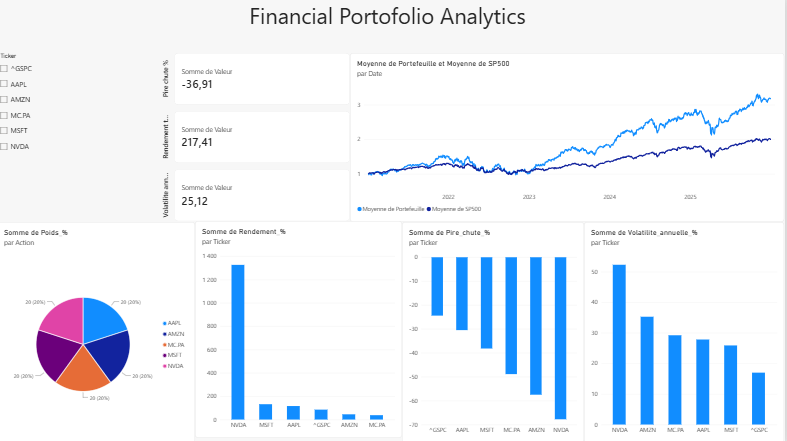

The page's visual inventory and layout, read from the dashboard file:
{"tool":"powerbi","page":{"name":"Page 1","canvas":[1920,1080],"ordinal":0},"visuals":[{"type":"lineChart","fields":{"Category":["resultats.Date"],"Y":["Avg(resultats.Portefeuille)","Avg(resultats.SP500)"]},"box":[861,129.3,1058.5,412.2],"z":0},{"type":"cardVisual","fields":{"Data":["Sum(stats_portefeuille.Valeur)"],"Rows":["stats_portefeuille.Mesure"]},"box":[400,129.3,461,412.2],"z":2000},{"type":"pieChart","fields":{"Category":["composition.Action"],"Y":["Sum(composition.Poids_%)"]},"box":[0,541.5,482.9,539],"z":3000},{"type":"clusteredColumnChart","fields":{"Category":["stats_actions.Ticker"],"Y":["Sum(stats_actions.Rendement_%)"]},"box":[482.9,539,504.9,529.3],"z":4000},{"type":"clusteredColumnChart","fields":{"Category":["stats_actions.Ticker"],"Y":["Sum(stats_actions.Pire_chute_%)"]},"box":[987.8,541.5,443.9,539],"z":5000},{"type":"clusteredColumnChart","fields":{"Category":["stats_actions.Ticker"],"Y":["Sum(stats_actions.Volatilite_annuelle_%)"]},"box":[1432,541,488,539],"z":5001},{"type":"slicer","fields":{"Values":["stats_actions.Ticker"]},"box":[0,129.3,400,412.2],"z":5002},{"type":"textbox","box":[0,0,1919.5,100],"z":5003}]}

Visuals, with their boxes in screenshot pixels (x1, y1, x2, y2), scaled from the page's 1920x1080 canvas onto the 787x441 screenshot:
lineChart - resultats.Date x Avg(resultats.Portefeuille): detection(353, 53, 786, 221)
cardVisual - Sum(stats_portefeuille.Valeur) x stats_portefeuille.Mesure: detection(164, 53, 353, 221)
pieChart - composition.Action x Sum(composition.Poids_%): detection(0, 221, 198, 440)
clusteredColumnChart - stats_actions.Ticker x Sum(stats_actions.Rendement_%): detection(198, 220, 405, 436)
clusteredColumnChart - stats_actions.Ticker x Sum(stats_actions.Pire_chute_%): detection(405, 221, 587, 440)
clusteredColumnChart - stats_actions.Ticker x Sum(stats_actions.Volatilite_annuelle_%): detection(587, 221, 786, 440)
slicer - stats_actions.Ticker: detection(0, 53, 164, 221)
textbox: detection(0, 0, 786, 41)
